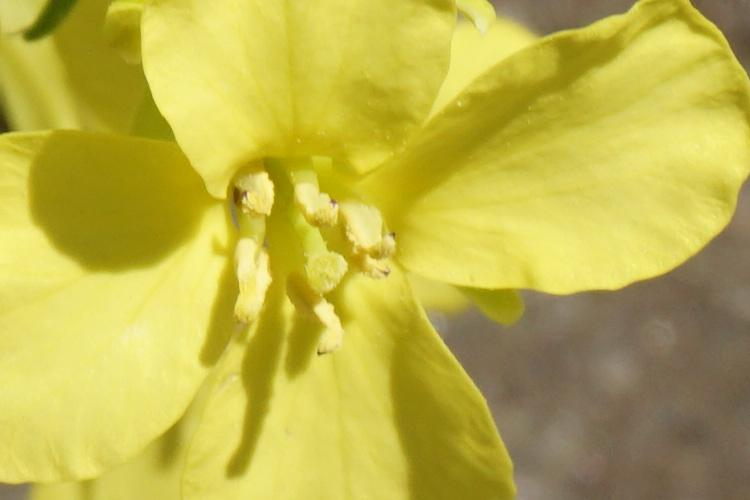yellow: (19, 15, 741, 493)
